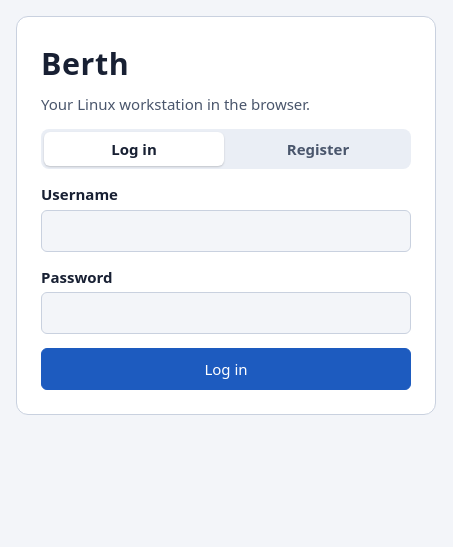
Scenario: focus after a failed submit (WCAG 2.4.3: the user must not be dropped at the top of the page) › "username taken" while registering puts focus on the username field
Click the tab "Register" at coordinates (318, 149), box [228,132,408,166]
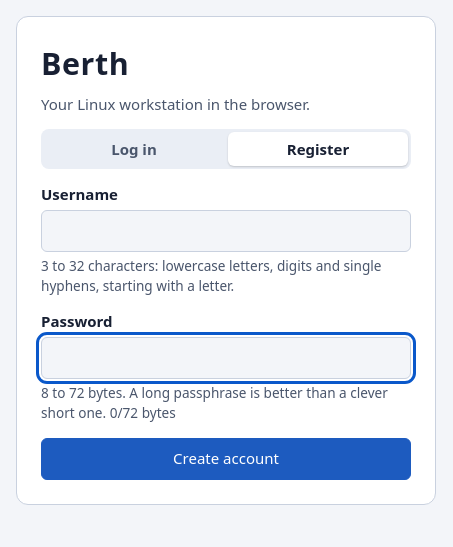
Type "alice" into the field labelled "Username" at coordinates (226, 231), box [41,210,411,252]
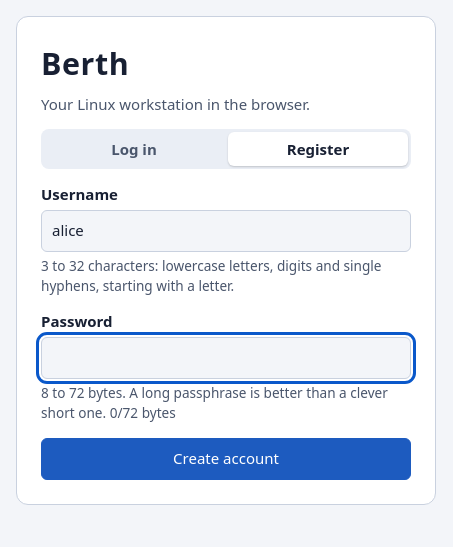
Type "correct horse" into the password field labelled "Password" at coordinates (226, 358), box [41,337,411,379]
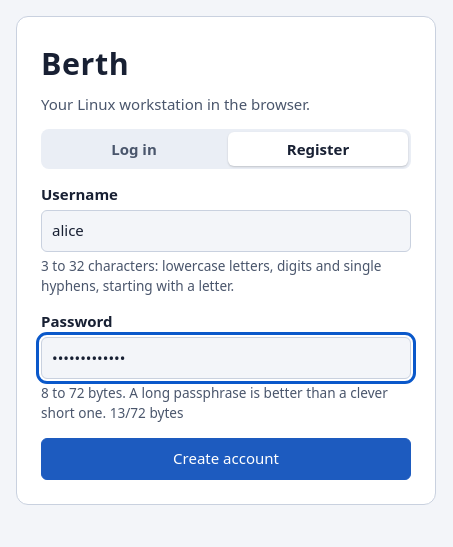
Submit the form labelled "Username", box [41,183,411,480]
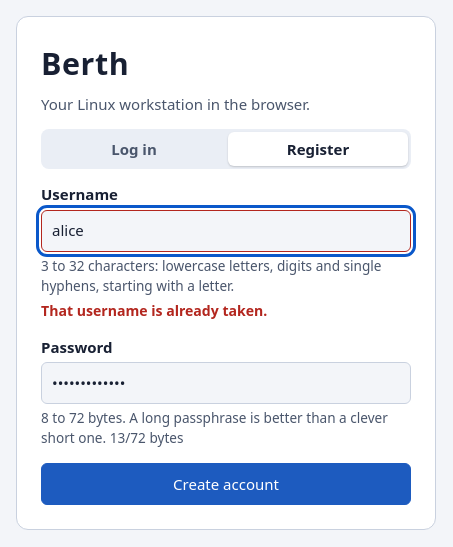
Now the text "That username is already taken." is shown, box [41,301,267,320]
